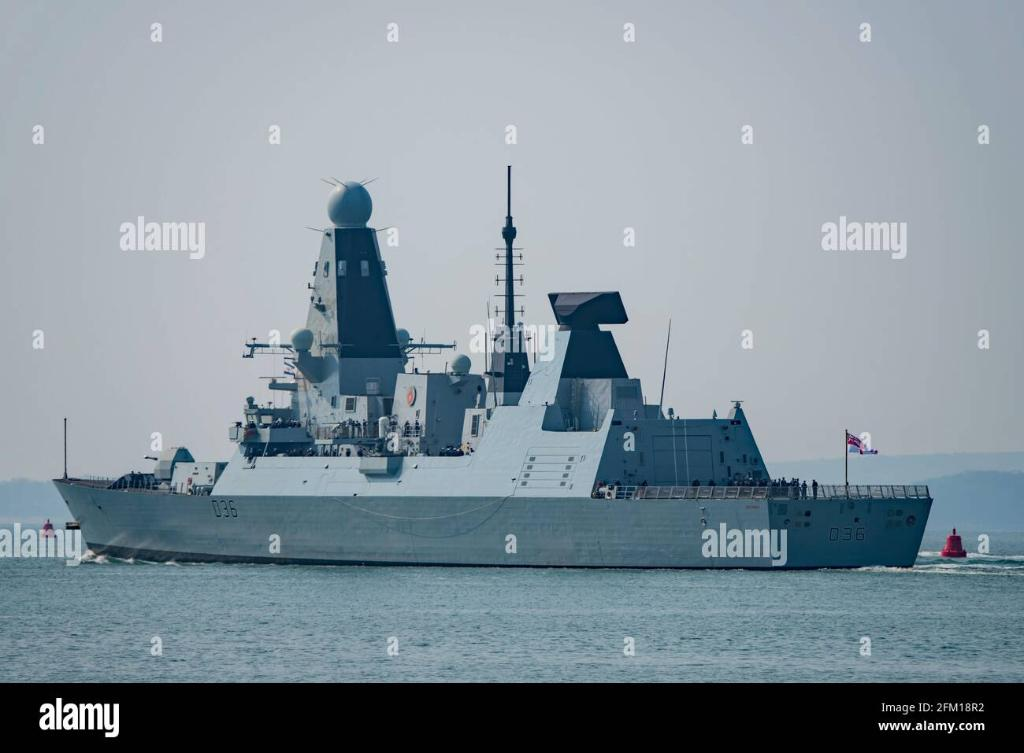Warship: (50, 174, 936, 580)
